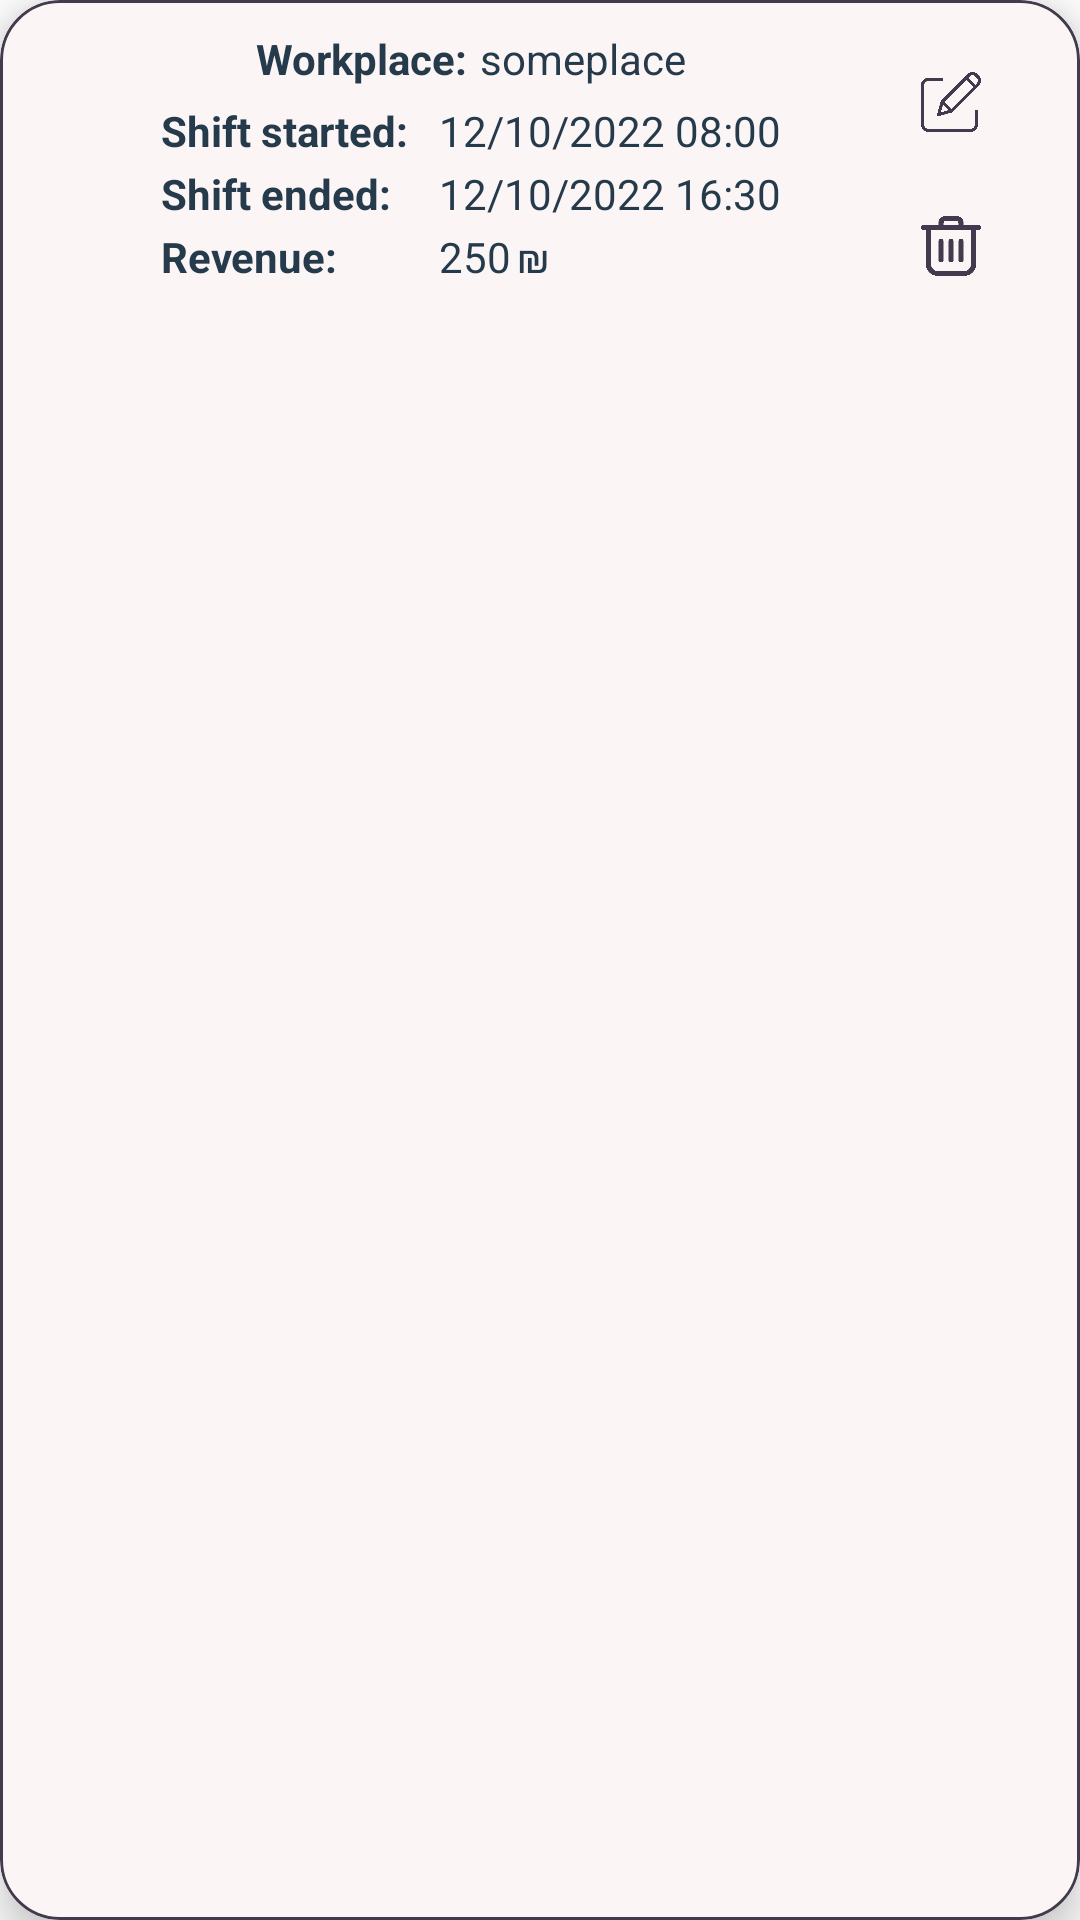

Point at icon controls on the screen. Image size 1080×1920, points as (x,y).
delete: (951,246)
edit: (951,102)
